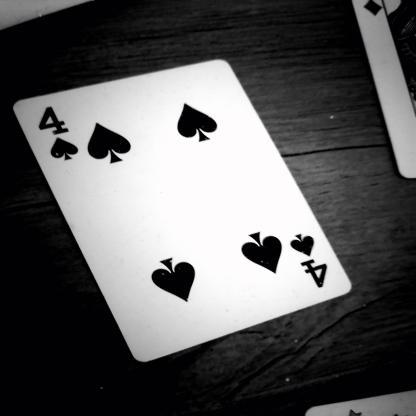4S: (275, 219, 344, 300), (26, 105, 82, 170)
